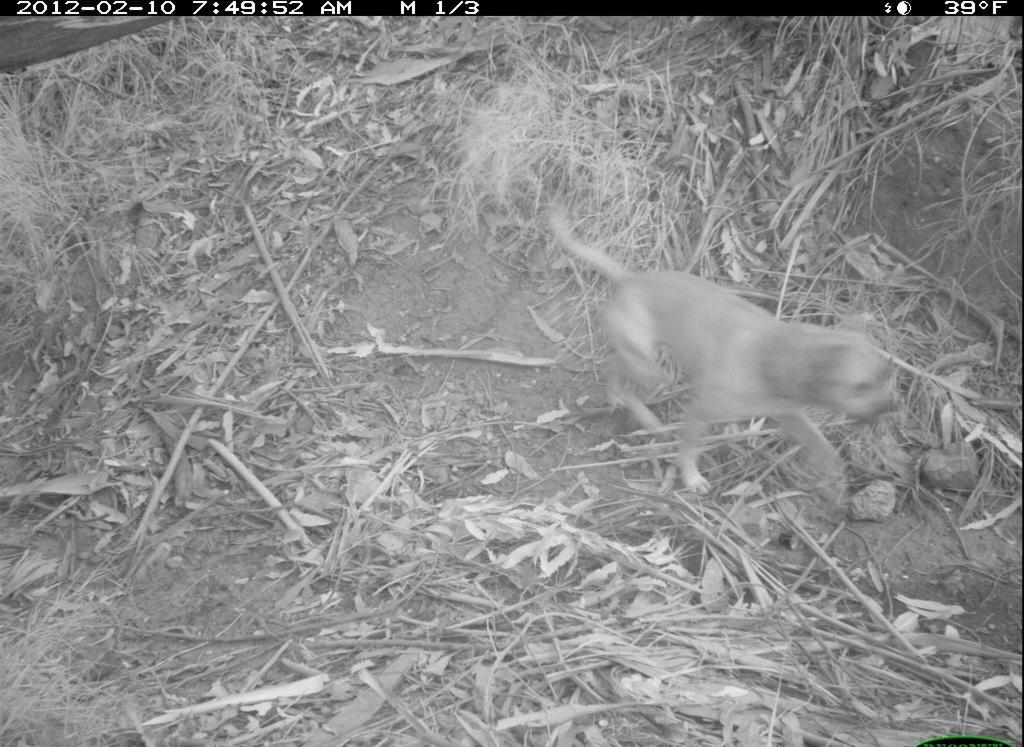dog: (533, 200, 897, 507)
